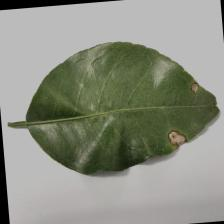canker: (164, 75, 203, 151)
